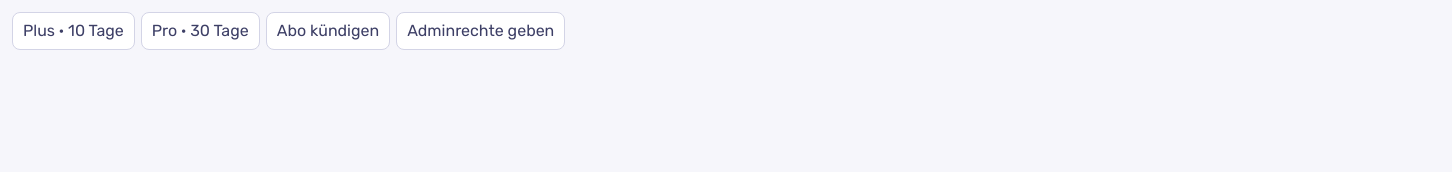
admin confirmation — behavioral (render + interaction) › canceling the confirmation sends no request and clears the pending state
This screenshot has width=1452, height=172.
Click the button "Abo kündigen" at (328, 31), box [266,12,390,50]
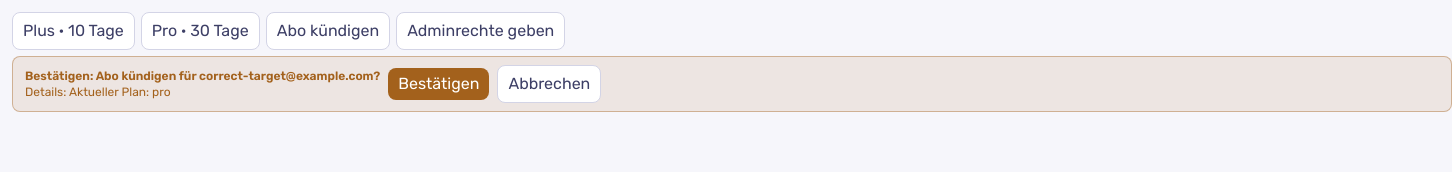
Expected: the text "correct-target@example.com" is shown, [25,69,380,83]
Click the button "Abbrechen" at (549, 84), box [497,65,601,103]
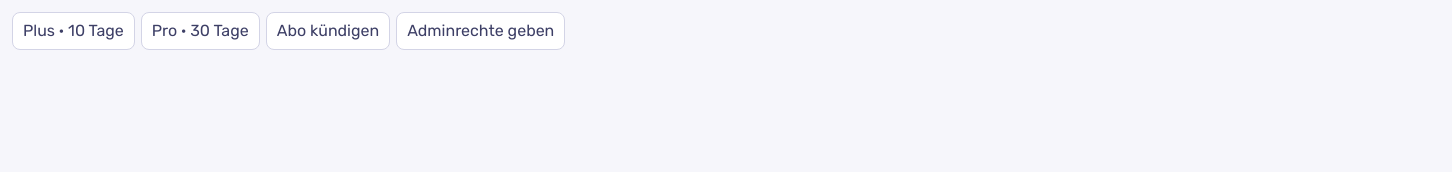
Expected: the button "Abo kündigen" is enabled, [266,12,390,50]
Expected: the text "correct-target@example.com" is gone
